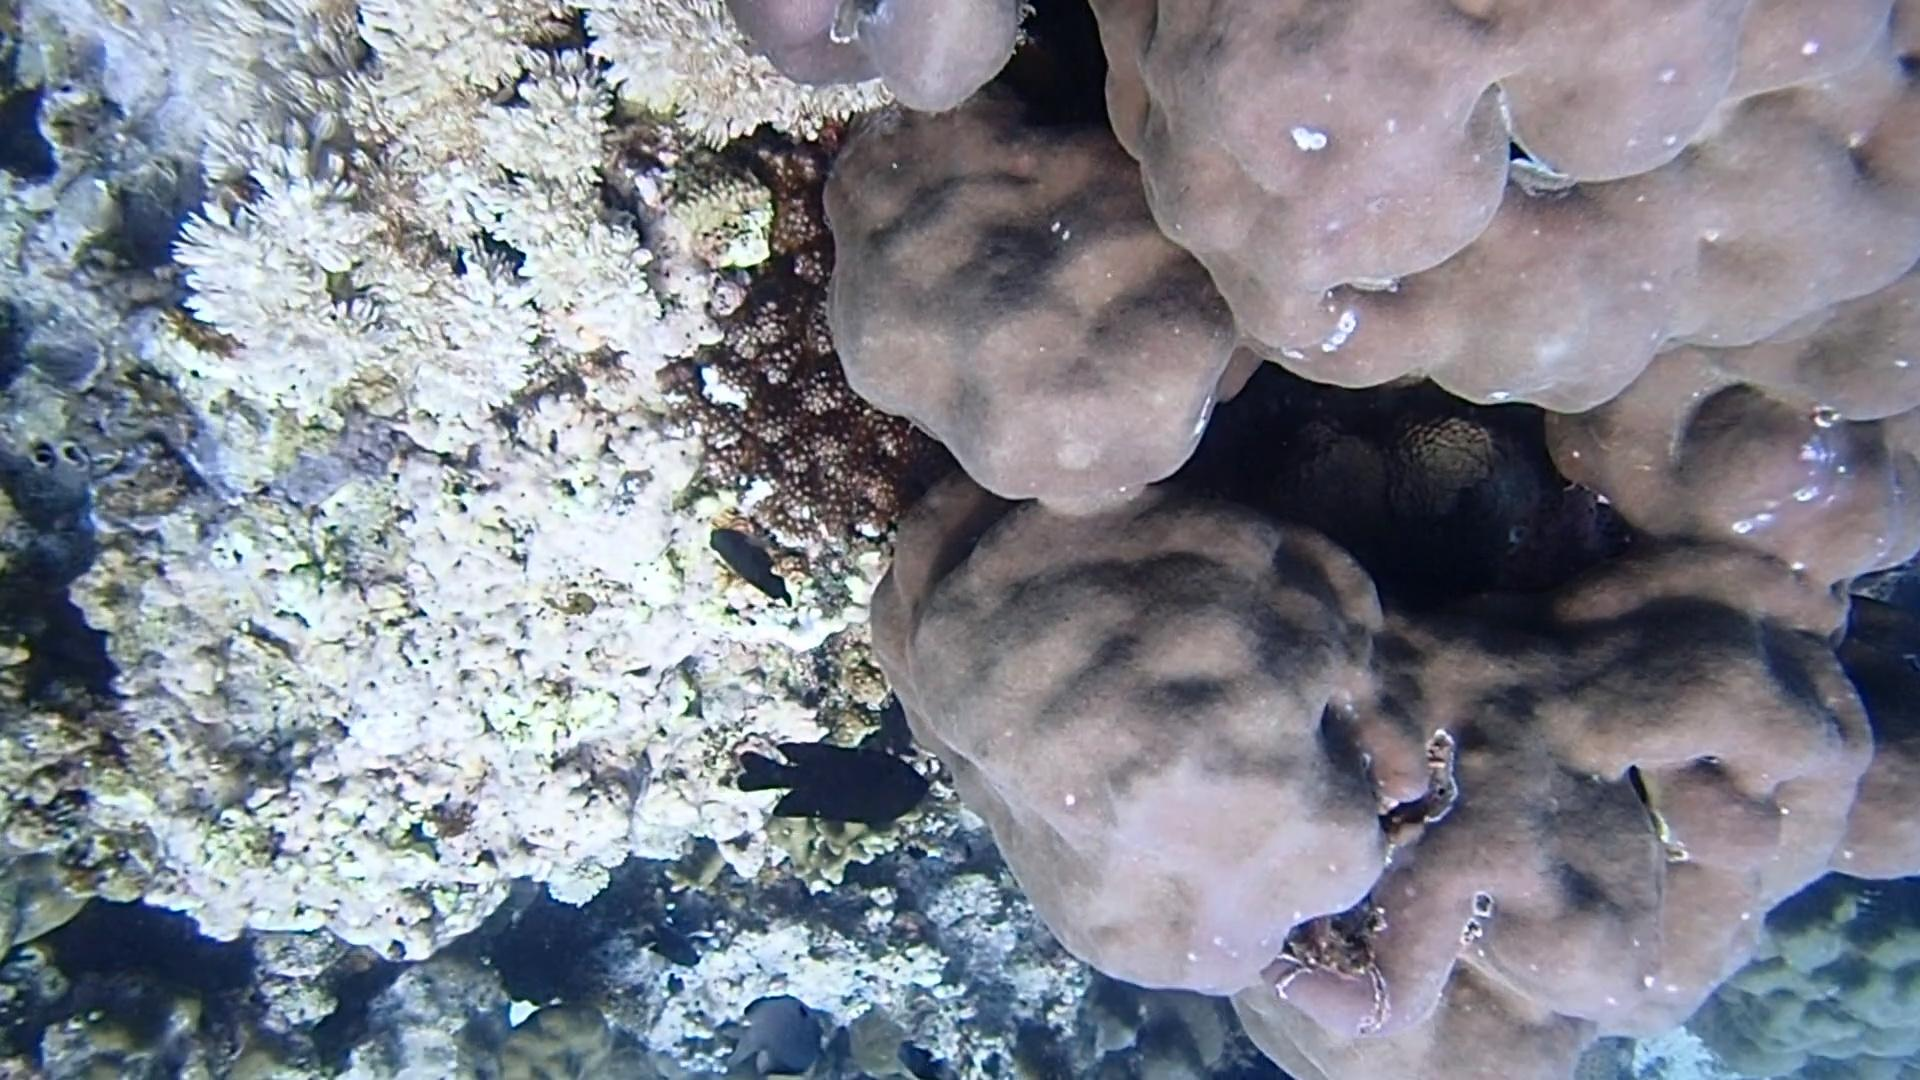Dark Fish: (729, 732, 943, 832), (698, 527, 796, 613), (632, 920, 709, 972)
Light Fish - Dark Fin: (716, 992, 837, 1075)
